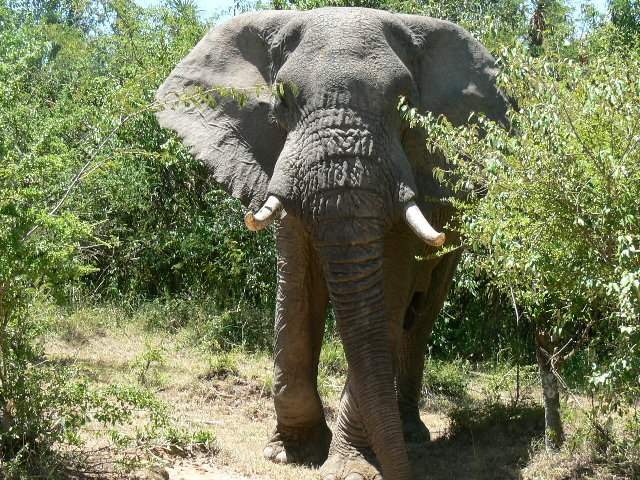elephant: (149, 4, 527, 479)
